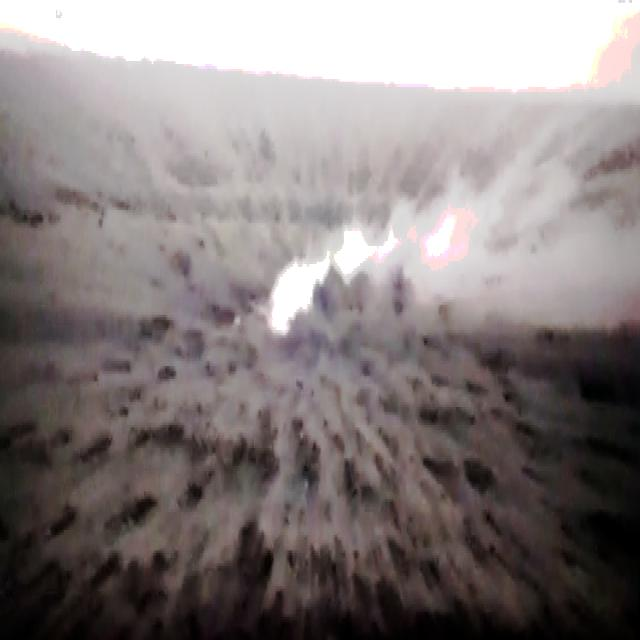asap: (259, 150, 626, 370)
